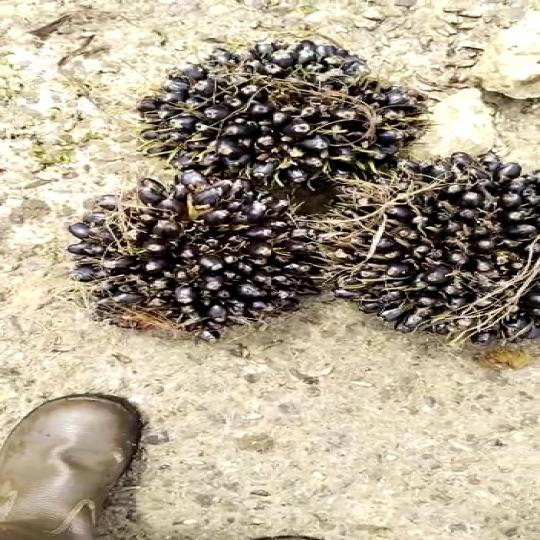mentah: (43, 170, 327, 344), (316, 151, 540, 362), (136, 30, 416, 195)
